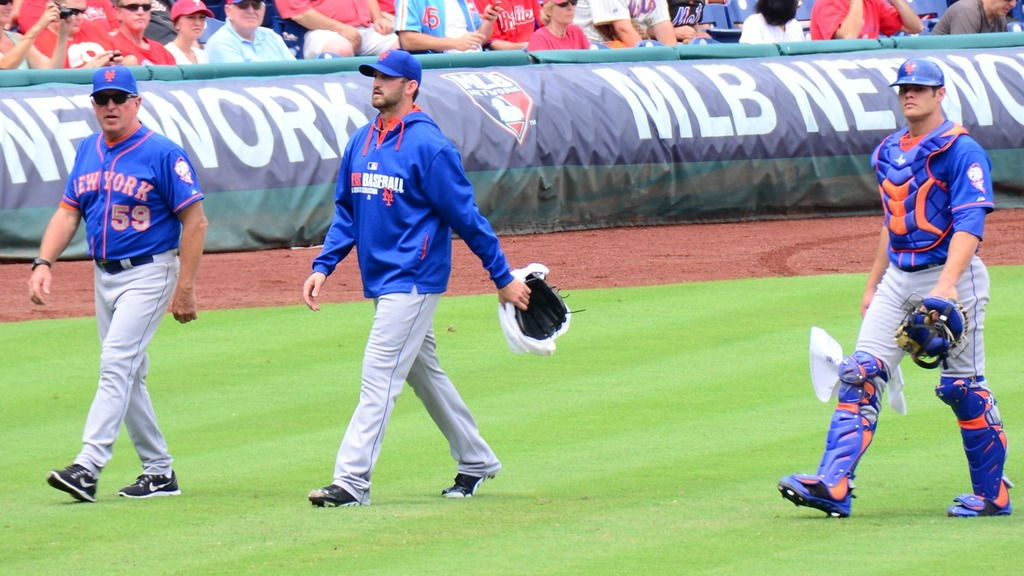Person: (0, 0, 1024, 69)
